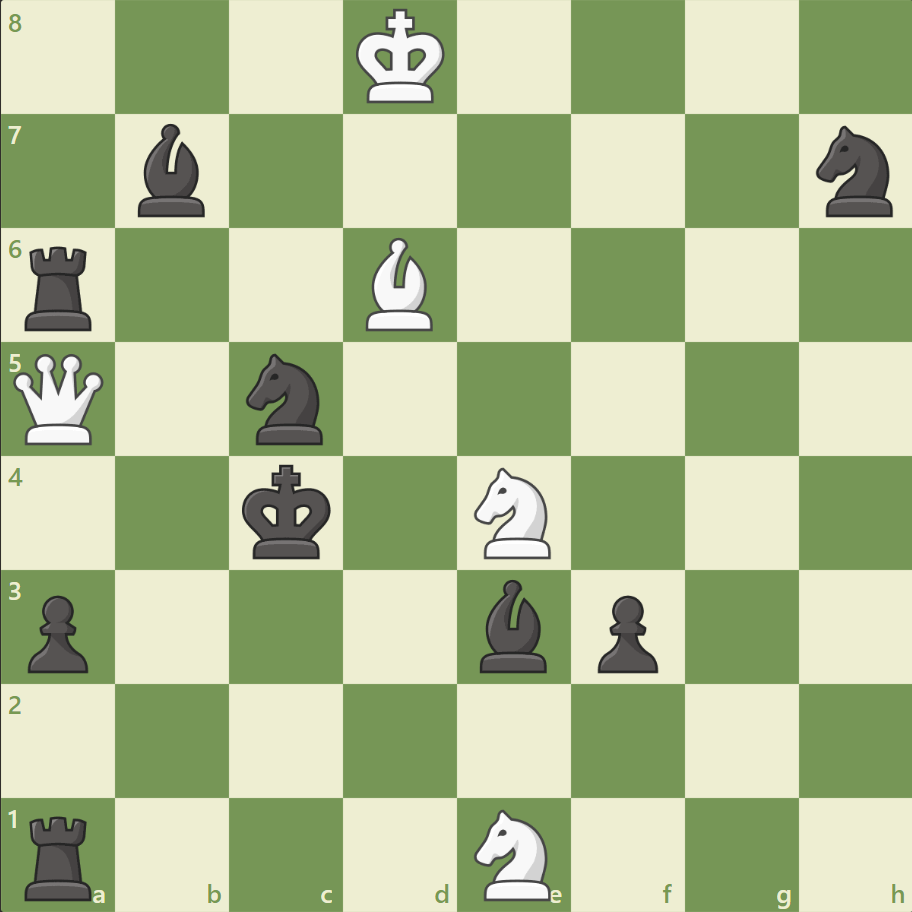B: (358, 233, 442, 336)
K: (351, 4, 451, 112)
N: (465, 461, 562, 564), (465, 802, 562, 904)
Q: (10, 349, 109, 449)
b: (131, 120, 215, 222), (471, 574, 555, 676)
k: (238, 458, 338, 566)
n: (806, 121, 903, 223), (238, 348, 335, 450)
p: (20, 586, 95, 677), (588, 586, 662, 677)
r: (19, 806, 102, 904), (19, 239, 102, 336)
